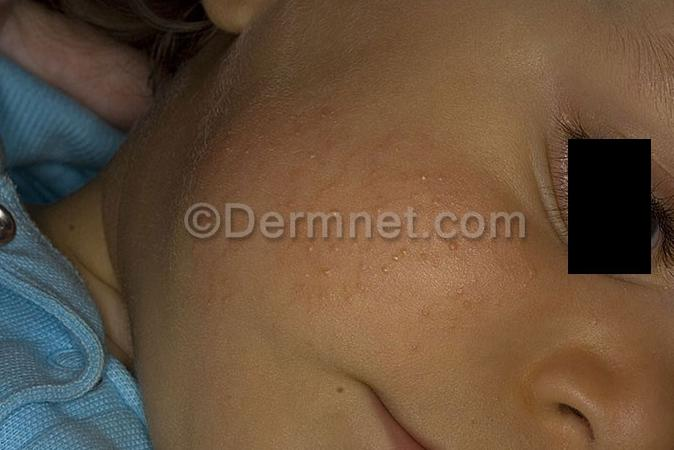edema 1: (208, 140, 542, 322)
